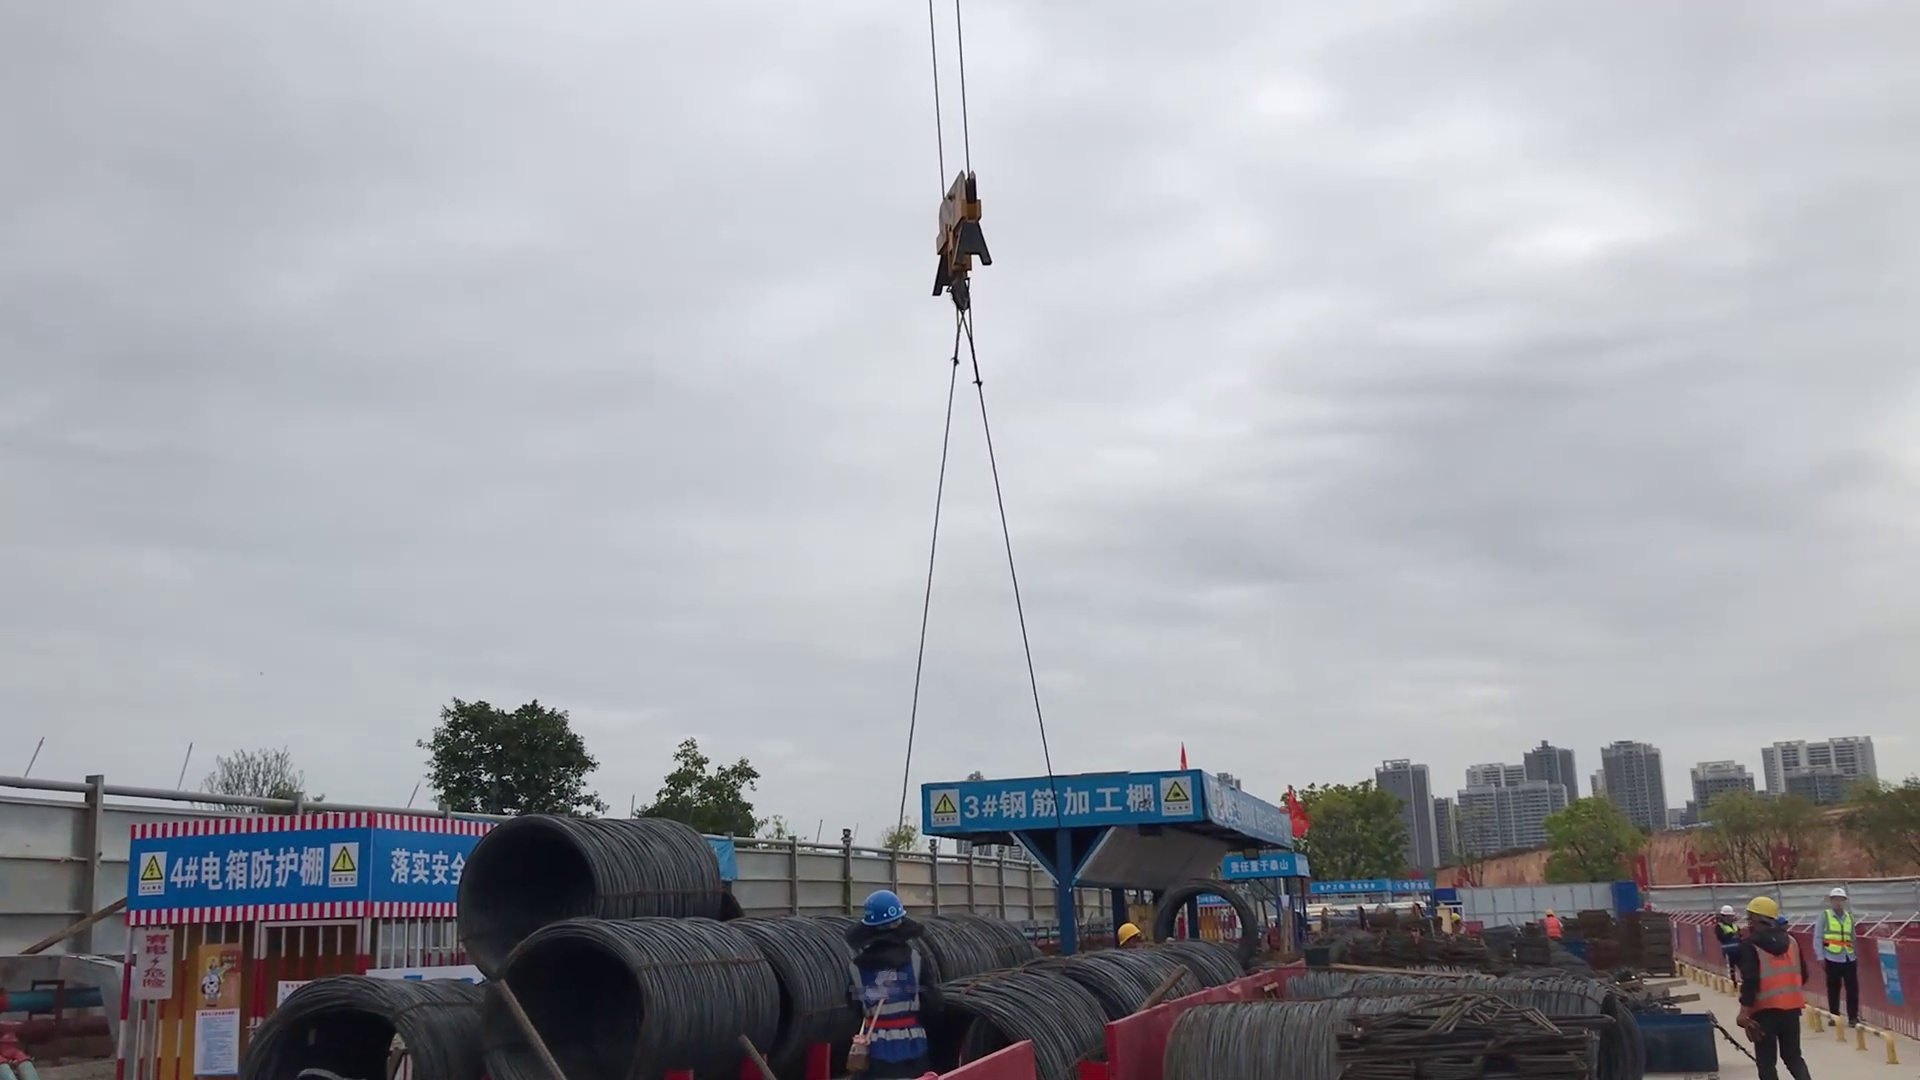fence: (1677, 894, 1920, 1052)
helmet: (859, 891, 911, 928), (1746, 891, 1780, 916), (1113, 919, 1144, 943), (1830, 884, 1853, 899), (1718, 904, 1733, 919), (1541, 905, 1555, 916)
hook: (919, 171, 1011, 338)
hopper: (1632, 1002, 1720, 1069)
person: (1733, 887, 1807, 1080), (847, 891, 926, 1066), (1815, 884, 1865, 1031), (1715, 894, 1742, 985), (1543, 905, 1568, 952)
slogan: (376, 842, 468, 904), (1212, 783, 1299, 844), (1873, 939, 1904, 1017), (1225, 855, 1296, 879), (1314, 882, 1385, 892)
vest: (849, 943, 924, 1056), (1740, 938, 1809, 1014), (1819, 908, 1856, 962), (1715, 921, 1742, 941), (1544, 917, 1563, 940)
